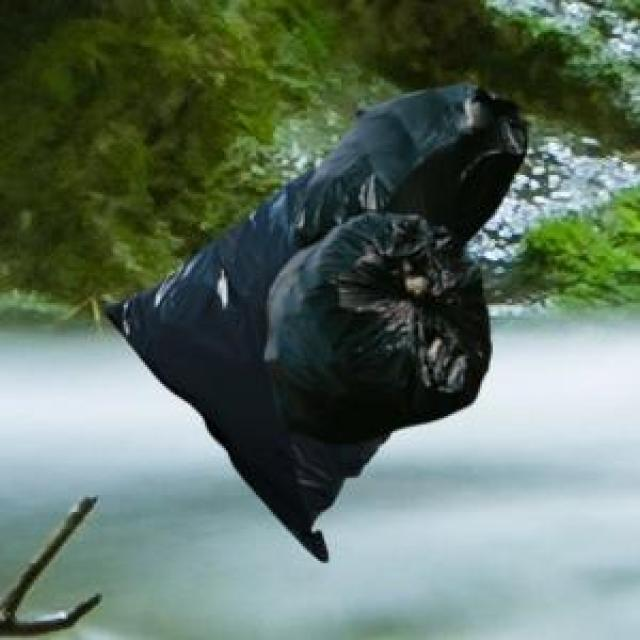waste: (105, 85, 528, 561)
